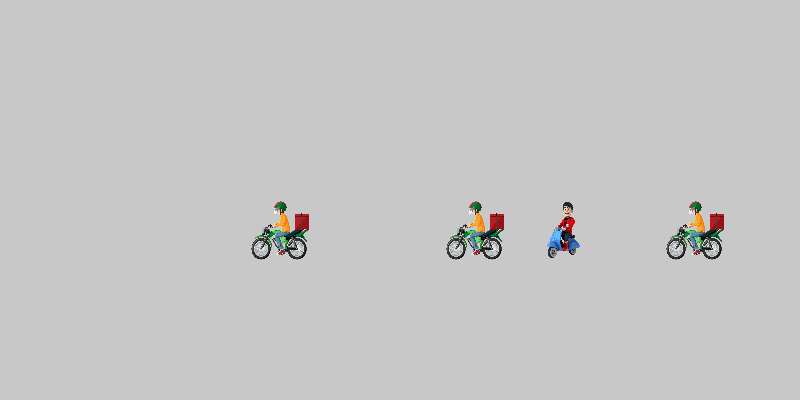helmet: (250, 200, 310, 260), (445, 200, 505, 260), (665, 200, 725, 260)
no_helmet: (535, 200, 595, 260)
